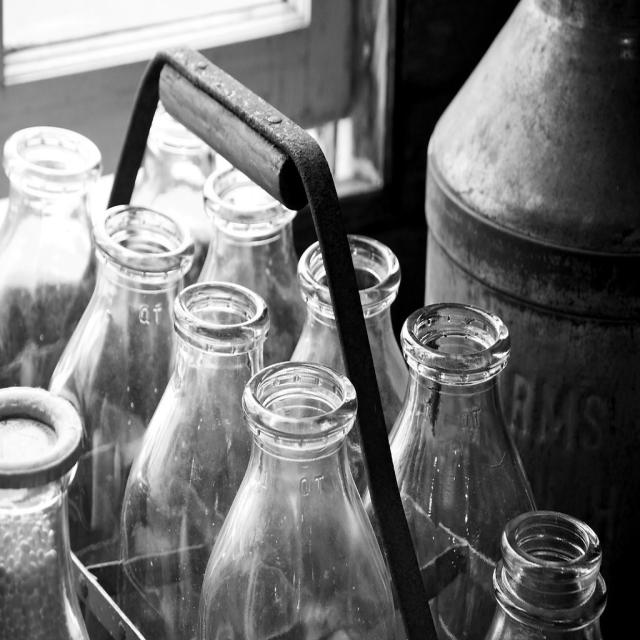Glass: (8, 27, 604, 640)
Metal: (140, 31, 345, 206)
